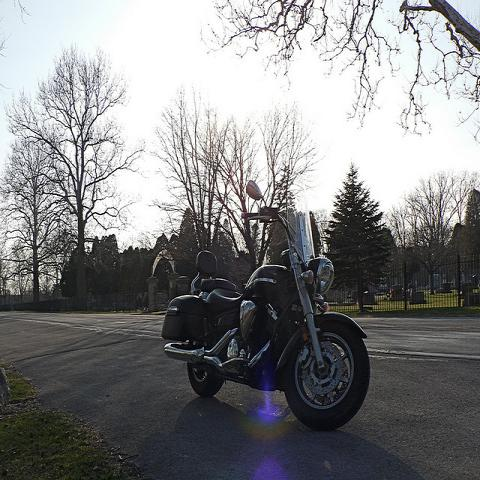motorcycle: (162, 182, 370, 432)
